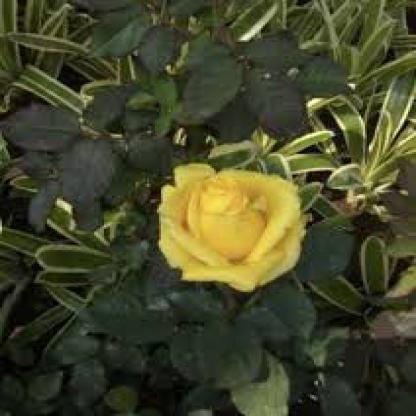Rose-Mawar: (152, 153, 319, 298)
